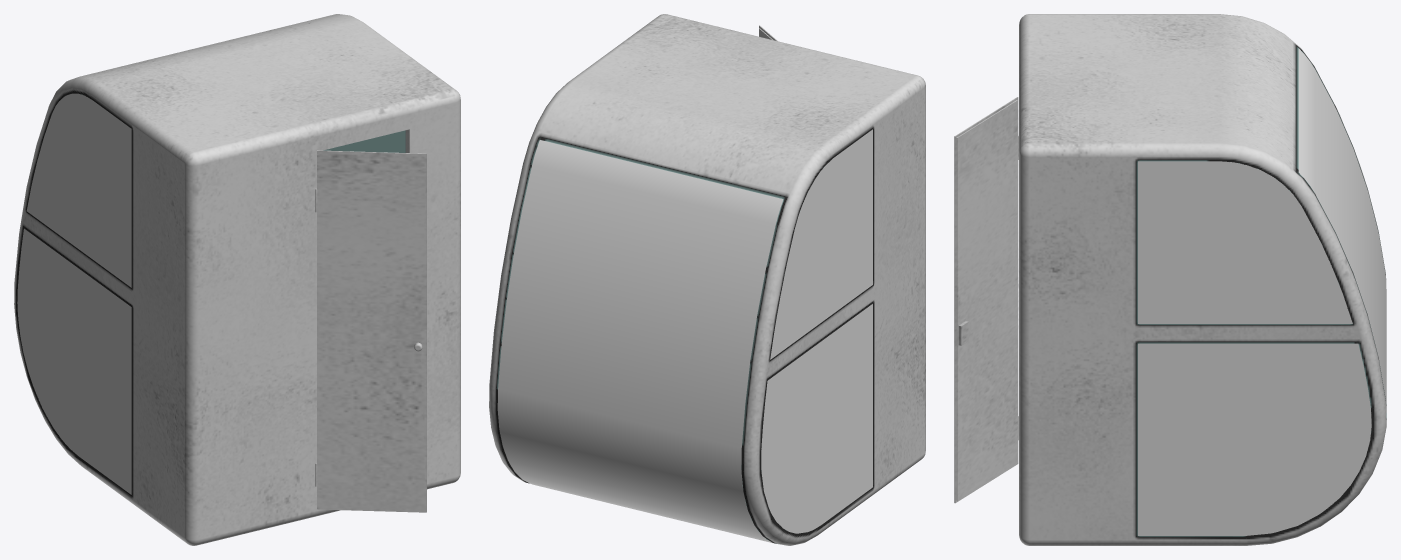
File: new cabin.fbx
The picture shows the model from 3 angles, left to right: view 1: azimuth 30°, elevation 25°; view 2: azimuth 150°, elevation 25°; view 3: azimuth 270°, elevation 25°; orthographic projection. The views are drawn at different scales.
Parts seen in each view (by area): view 1: cabin1; view 2: cabin1; view 3: cabin1.
Boxes of the visible parts, <box> form: cabin1: <box>14,14,460,545</box>; cabin1: <box>489,14,925,545</box>; cabin1: <box>954,14,1386,545</box>.
Bounding box in the file's own units: 165 × 225 × 220.
Materials: 3 (2 with a texture image).
